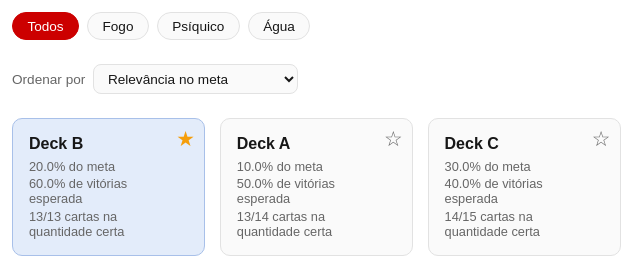
Scenario: DecksList › filters by element chip
Click the button "Água" at (279, 26), box [248,12,310,40]
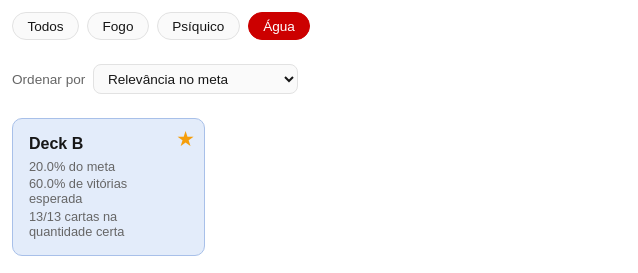
Check: the text "Deck B" is shown, box [29,135,83,152]
Check: the link "Deck A" is gone
Check: the link "Deck C" is gone
